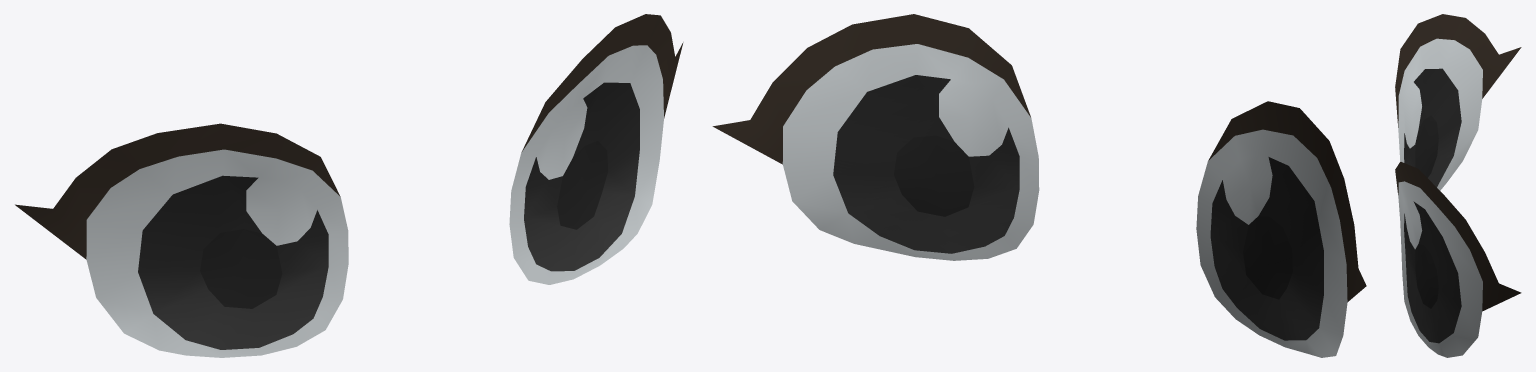
The model's file is Eye_3.fbx.
The picture shows the model from 3 angles, left to right: view 1: azimuth 30°, elevation 25°; view 2: azimuth 150°, elevation 25°; view 3: azimuth 270°, elevation 25°; orthographic projection. The views are drawn at different scales.
Visible parts, largest first — view 1: Eye_3; view 2: Eye_3; view 3: Eye_3.
Boxes of the visible parts, bbox=[...] form: Eye_3: bbox=[15, 14, 683, 357]; Eye_3: bbox=[712, 14, 1366, 357]; Eye_3: bbox=[1395, 14, 1521, 357].
Bounding box in the file's own units: 41.96 × 14.51 × 9.14.
